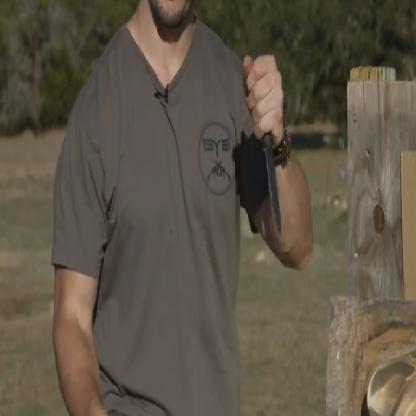knife: (236, 51, 290, 247)
